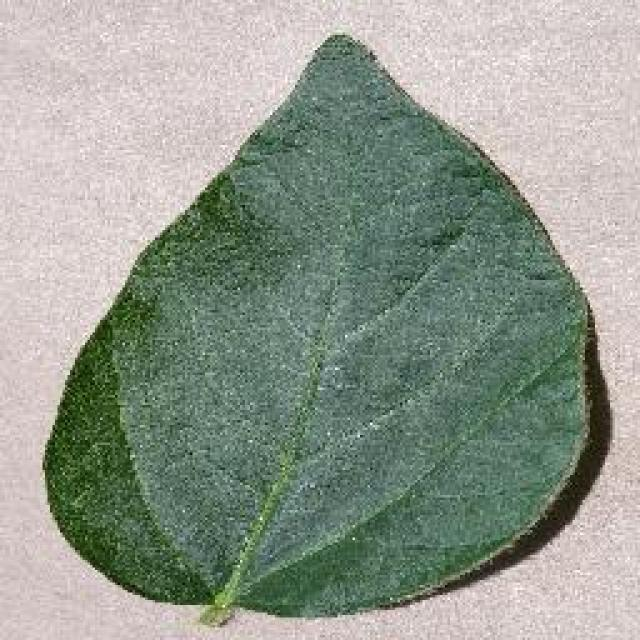Soy_healthy: (81, 123, 541, 580)
